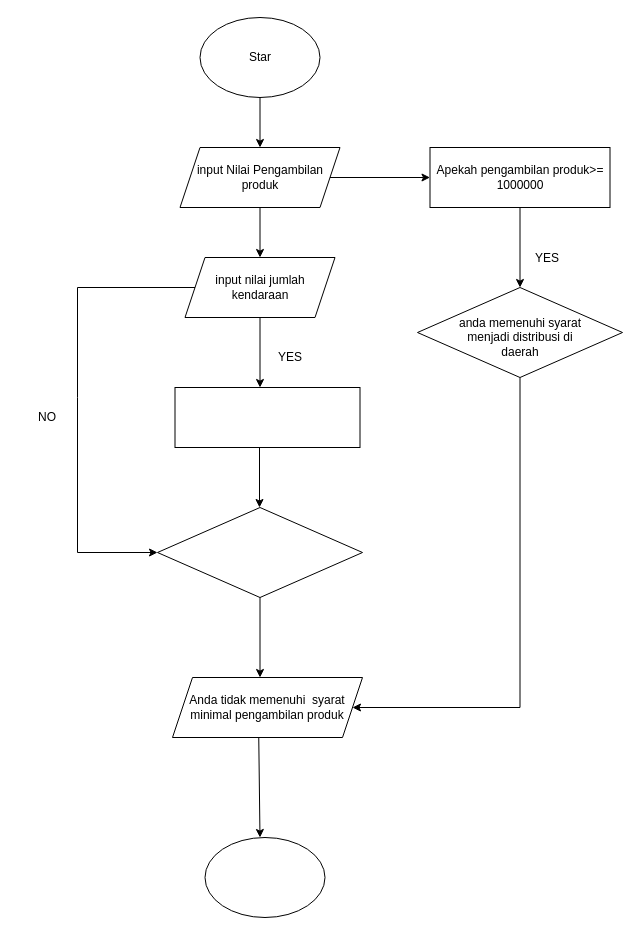
Image size: 640x935. Some labels were removed from this diagram. The centre of each missing label's shape, as x and y in pixels:
anda tidak memenuhi syarat jumlah kendaraan: pixel 259 552
Apakah jumlah kendaran >8: pixel 267 417
End: pixel 264 877
